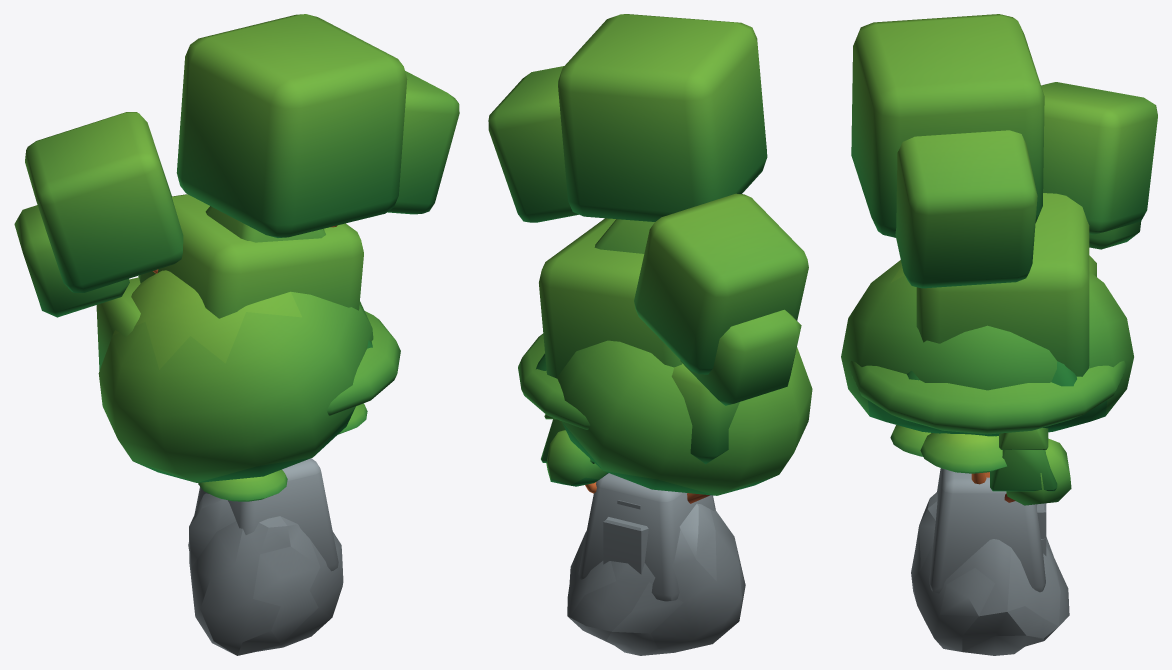
File: nature.glb
The picture shows the model from 3 angles, left to right: view 1: azimuth 30°, elevation 25°; view 2: azimuth 150°, elevation 25°; view 3: azimuth 270°, elevation 25°; orthographic projection. The views are drawn at different scales.
Parts seen in each view (by area): view 1: arbol_3, arbol_1, roca_5, arbol_2, pino_1, roca_3, pino_2; view 2: arbol_3, arbol_1, roca_5, arbol_2, roca_3, pino_1, roca_2, pino_2; view 3: arbol_3, arbol_1, pino_1, arbol_2, roca_5, roca_3, pino_2.
Boxes of the visible parts, left/top/right/bottom form: arbol_3: left=14, top=14, right=459, bottom=317; arbol_1: left=98, top=270, right=373, bottom=482; roca_5: left=189, top=493, right=343, bottom=655; arbol_2: left=96, top=194, right=363, bottom=370; pino_1: left=198, top=311, right=400, bottom=501; roca_3: left=188, top=458, right=338, bottom=571; pino_2: left=205, top=206, right=372, bottom=348; arbol_3: left=488, top=14, right=808, bottom=405; arbol_1: left=546, top=340, right=812, bottom=495; roca_5: left=567, top=503, right=745, bottom=655; arbol_2: left=539, top=218, right=739, bottom=464; roca_3: left=578, top=473, right=715, bottom=601; pino_1: left=518, top=333, right=590, bottom=429; roca_2: left=603, top=500, right=648, bottom=574; pino_2: left=536, top=219, right=654, bottom=463; arbol_3: left=851, top=14, right=1157, bottom=288; arbol_1: left=841, top=260, right=1133, bottom=505; pino_1: left=848, top=361, right=1126, bottom=484; arbol_2: left=916, top=193, right=1096, bottom=376; roca_5: left=911, top=492, right=1069, bottom=655; roca_3: left=929, top=468, right=1045, bottom=593; pino_2: left=906, top=361, right=1076, bottom=502.
Bounding box in the file's own units: 4.6 × 7.5 × 3.51.
Materials: 1 (1 with a texture image).
